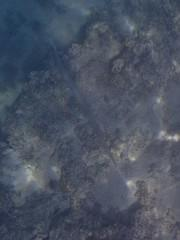Fistularia commersonii: (38, 31, 131, 162)
